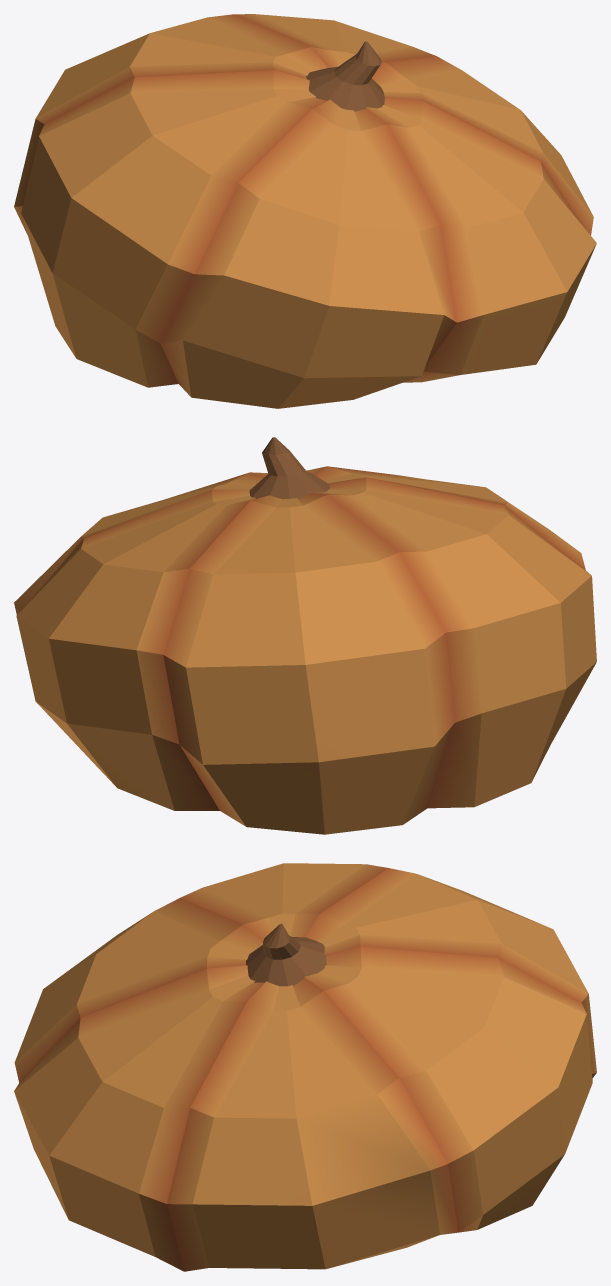
Rendered from pumpkin.glb.
3 views of the same model, one above another, from view 1: azimuth 30°, elevation 25°; view 2: azimuth 150°, elevation 25°; view 3: azimuth 270°, elevation 25° (orthographic).
Parts seen in each view (by area): view 1: Pumpkin; view 2: Pumpkin; view 3: Pumpkin.
Boxes of the visible parts, x1,y1,x2,y2 form: Pumpkin: [14, 14, 596, 408]; Pumpkin: [14, 437, 596, 834]; Pumpkin: [14, 863, 596, 1271].
Size of the model in its own units: 0.6119 by 0.3132 by 0.5974.
